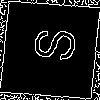S: (24, 25, 77, 63)
